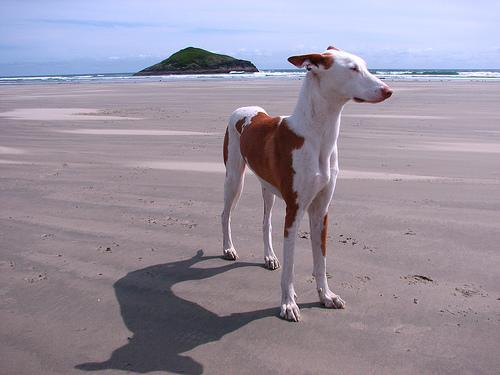Ibizan_hound: (219, 44, 393, 322)
